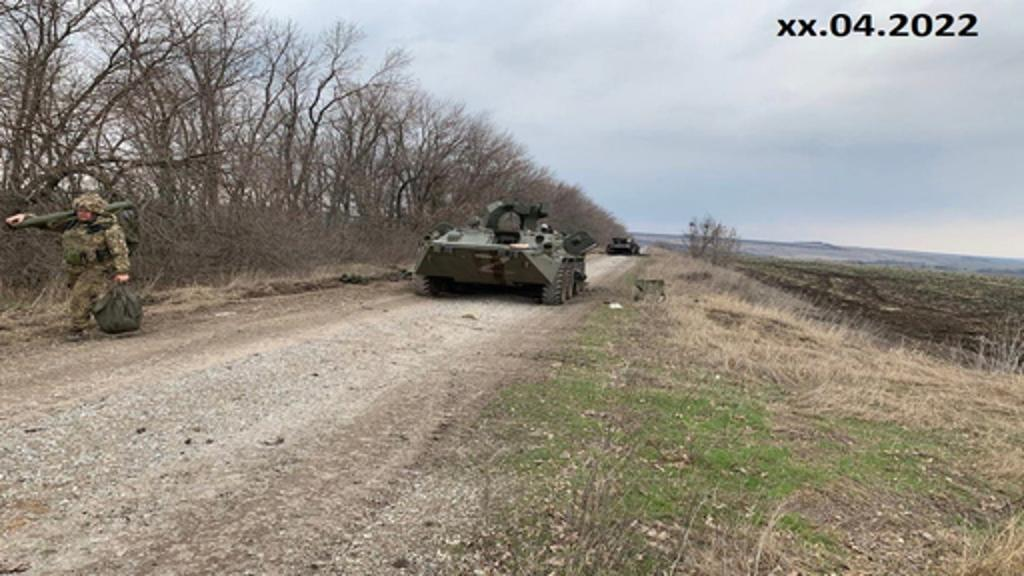APC-IFV: (406, 190, 594, 306), (598, 226, 650, 258)
